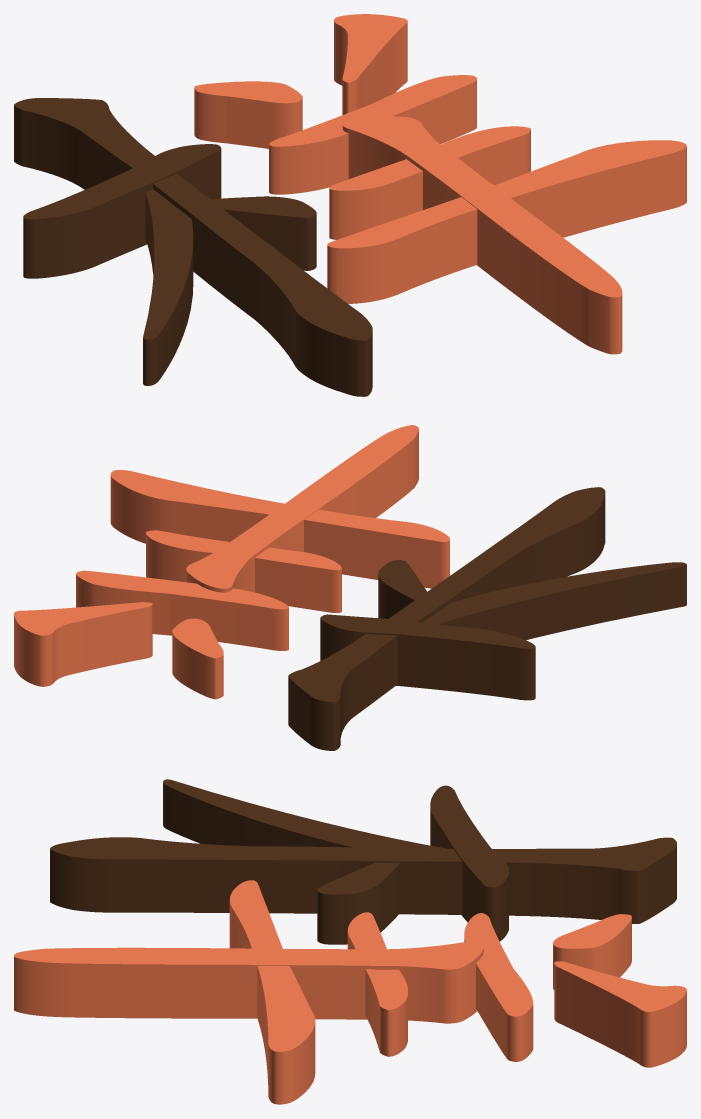
The model's file is hanzi173.fbx.
3 views of the same model, one above another, from view 1: azimuth 30°, elevation 25°; view 2: azimuth 150°, elevation 25°; view 3: azimuth 270°, elevation 25° (orthographic). The views are drawn at different scales.
Parts seen in each view (by area): view 1: Curve.001, Curve.008, Curve.009, Curve, Curve.006, Curve.007, Curve.002, Curve.004, Curve.005, Curve.003; view 2: Curve.001, Curve.008, Curve.009, Curve.002, Curve, Curve.005, Curve.006, Curve.007, Curve.004, Curve.003; view 3: Curve.001, Curve.009, Curve.005, Curve.008, Curve.002, Curve, Curve.006, Curve.003, Curve.007, Curve.004.
Boxes of the visible parts, x1,y1,x2,y2 form: Curve.001: (14, 98, 372, 396); Curve.008: (327, 140, 686, 303); Curve.009: (342, 116, 622, 354); Curve: (23, 144, 221, 278); Curve.006: (269, 75, 476, 194); Curve.007: (329, 126, 530, 239); Curve.002: (143, 189, 193, 385); Curve.004: (194, 81, 302, 148); Curve.005: (334, 14, 407, 114); Curve.003: (211, 196, 316, 270); Curve.001: (288, 487, 605, 750); Curve.008: (110, 470, 449, 588); Curve.009: (186, 425, 418, 592); Curve.002: (423, 562, 686, 639); Curve: (320, 614, 535, 700); Curve.005: (14, 602, 152, 686); Curve.006: (76, 570, 288, 650); Curve.007: (146, 530, 341, 612); Curve.004: (172, 618, 223, 699); Curve.003: (378, 560, 426, 618); Curve.001: (50, 837, 676, 923); Curve.009: (14, 941, 483, 1023); Curve.005: (554, 961, 686, 1067); Curve.008: (229, 880, 315, 1104); Curve.002: (163, 779, 446, 848); Curve: (430, 785, 508, 941); Curve.006: (464, 913, 533, 1061); Curve.003: (317, 862, 399, 944); Curve.007: (347, 912, 407, 1056); Curve.004: (553, 914, 631, 989).
Bounding box in the file's own units: 24.96 × 25.63 × 2.36.
